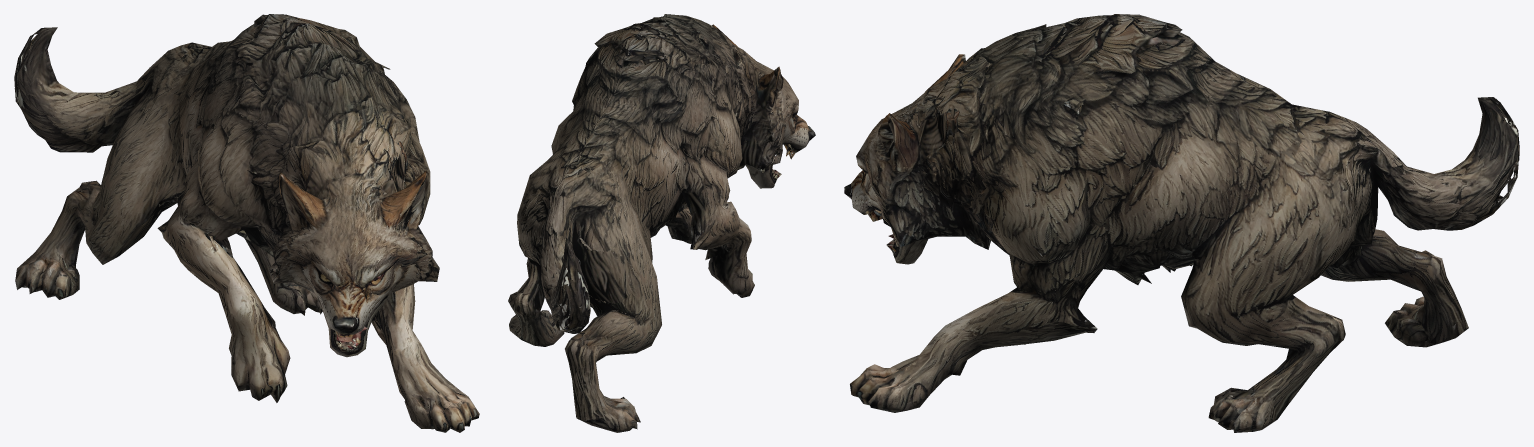
Rendered from DireWolf.glb.
3 views of the same model, side by side, from view 1: azimuth 30°, elevation 25°; view 2: azimuth 150°, elevation 25°; view 3: azimuth 270°, elevation 25° (orthographic). The views are drawn at different scales.
Parts seen in each view (by area): view 1: texture_mapping; view 2: texture_mapping; view 3: texture_mapping.
Boxes of the visible parts, left/top/right/bottom form: texture_mapping: left=14, top=14, right=479, bottom=432; texture_mapping: left=508, top=14, right=815, bottom=432; texture_mapping: left=844, top=14, right=1519, bottom=432.
Size of the model in its own units: 0.4321 by 0.6133 by 0.9983.
1 material, 1 textured.
